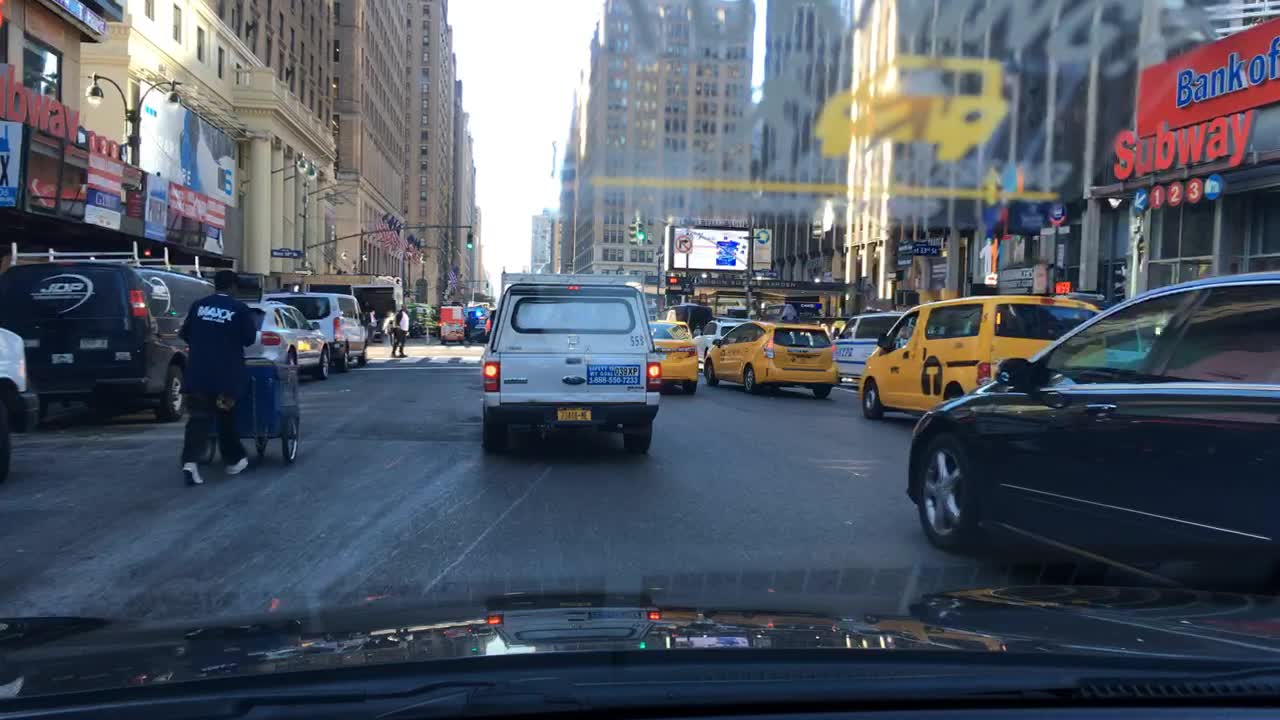car: (904, 265, 1278, 596), (478, 270, 664, 457), (859, 292, 1107, 424), (704, 315, 838, 399), (264, 289, 377, 371), (231, 303, 333, 381), (0, 318, 40, 487), (829, 312, 918, 384), (645, 315, 704, 395), (691, 317, 746, 374), (402, 300, 437, 335), (439, 303, 465, 345), (461, 296, 487, 337)
person: (167, 271, 255, 488), (386, 303, 412, 359), (364, 304, 375, 331)
traffic light: (637, 218, 646, 242), (628, 218, 637, 242), (464, 228, 473, 250)
traffic sign: (267, 246, 302, 259), (1047, 201, 1065, 225), (1038, 225, 1068, 237), (675, 232, 692, 253)
truck: (0, 237, 219, 421)
